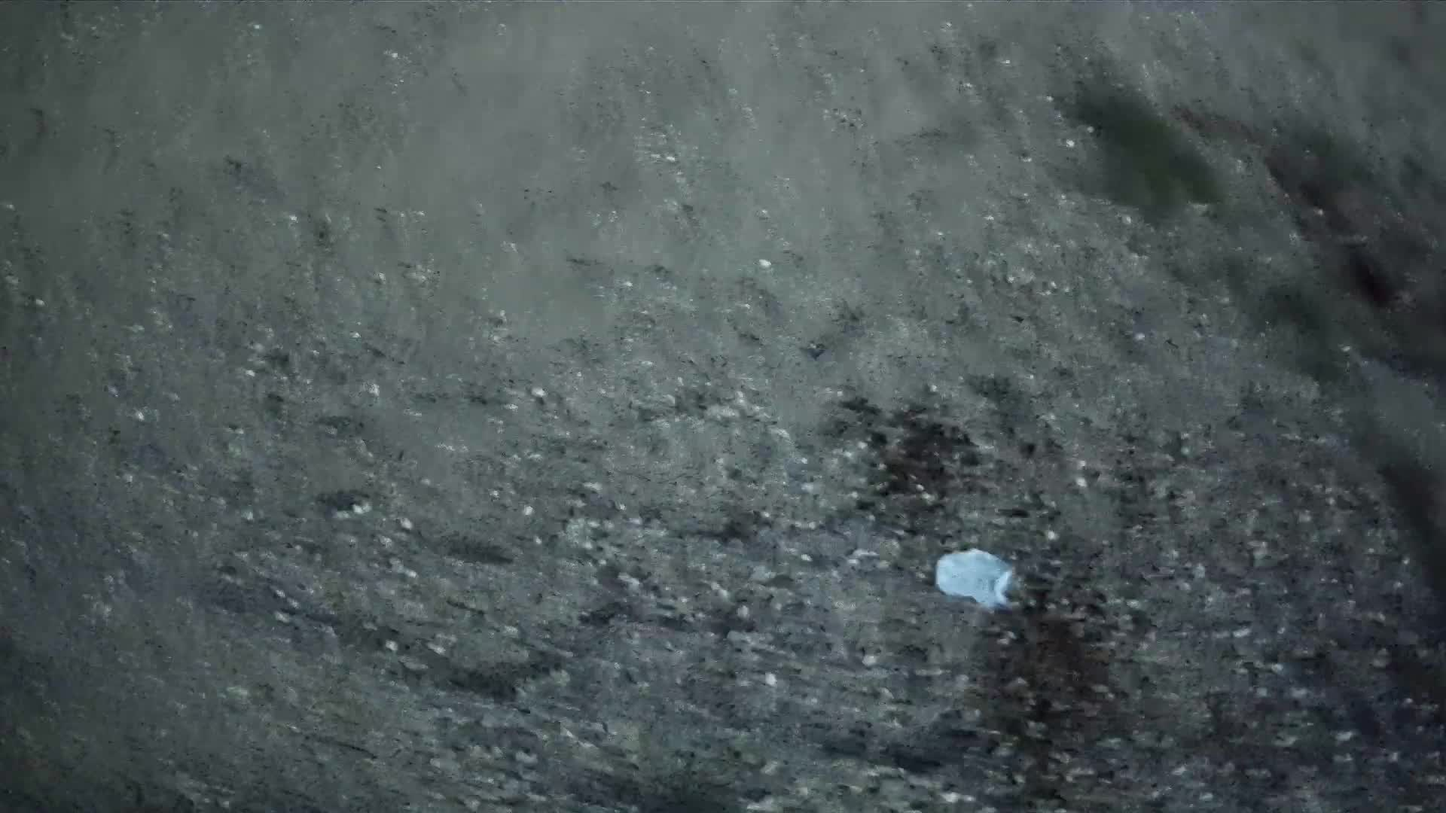Target: (929, 541, 1024, 612)
